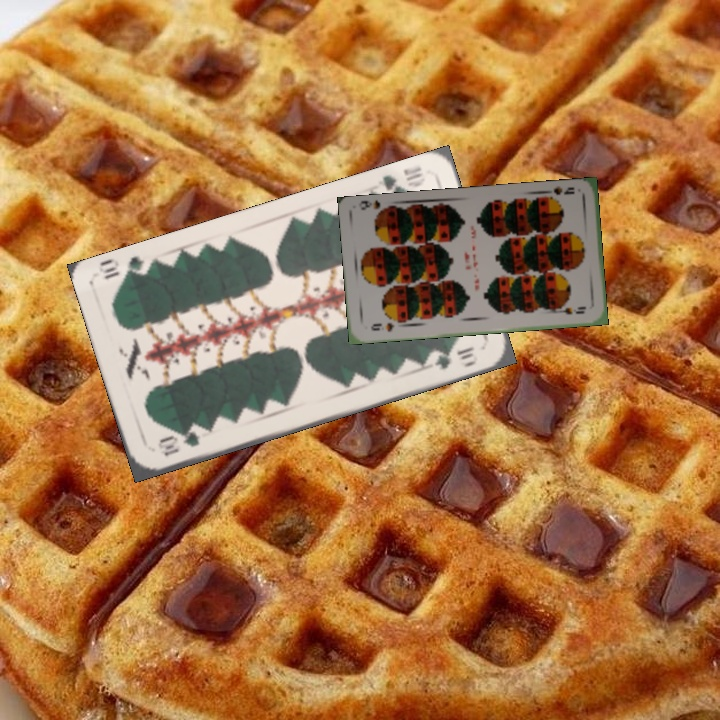G10: (374, 162, 428, 201), (153, 427, 203, 459)
S9: (541, 183, 577, 203), (367, 319, 396, 334)
